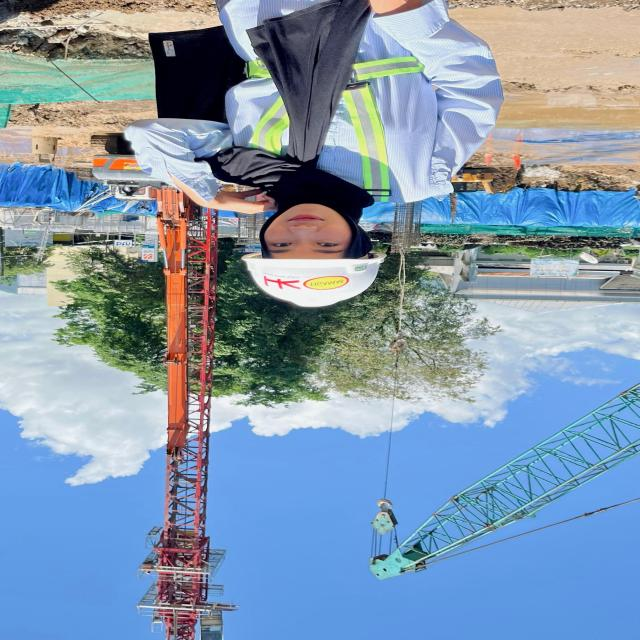safetyhelmet: (245, 191, 397, 310)
